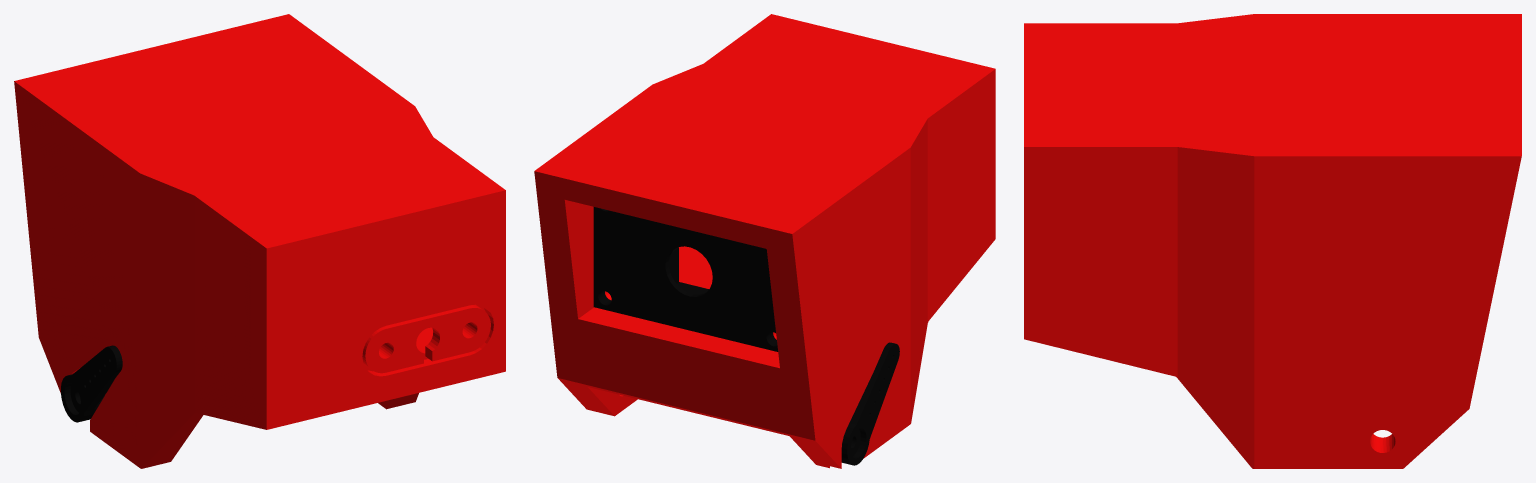
Rendered from Head.dae.
3 views of the same model, side by side, from view 1: azimuth 30°, elevation 25°; view 2: azimuth 150°, elevation 25°; view 3: azimuth 270°, elevation 25° (orthographic). The views are drawn at different scales.
Parts seen in each view (by area): view 1: head; view 2: head; view 3: head.
Boxes of the visible parts, x1,y1,x2,y2 form: head: [14, 14, 505, 468]; head: [534, 14, 995, 468]; head: [1024, 14, 1521, 468].
Size of the model in its own units: 0.047 by 0.068 by 0.0471.
